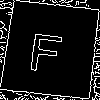F: (26, 24, 66, 74)
